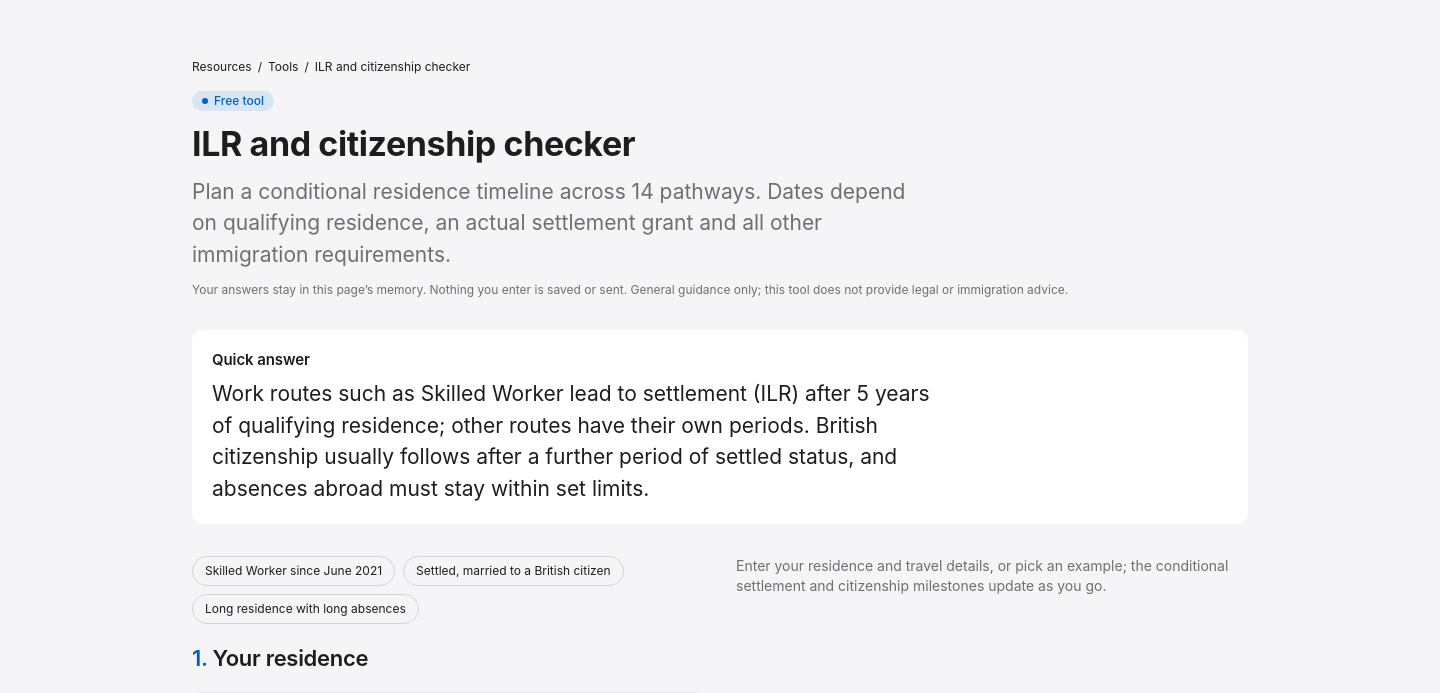
public ILR and citizenship checker › shows the frame, fills presets and flags incomplete answers
Expected: the heading "Quick answer" is shown, [212,350,310,369]
Click the button "Skilled Worker since June 2021" at (294,571), box [192,556,395,586]
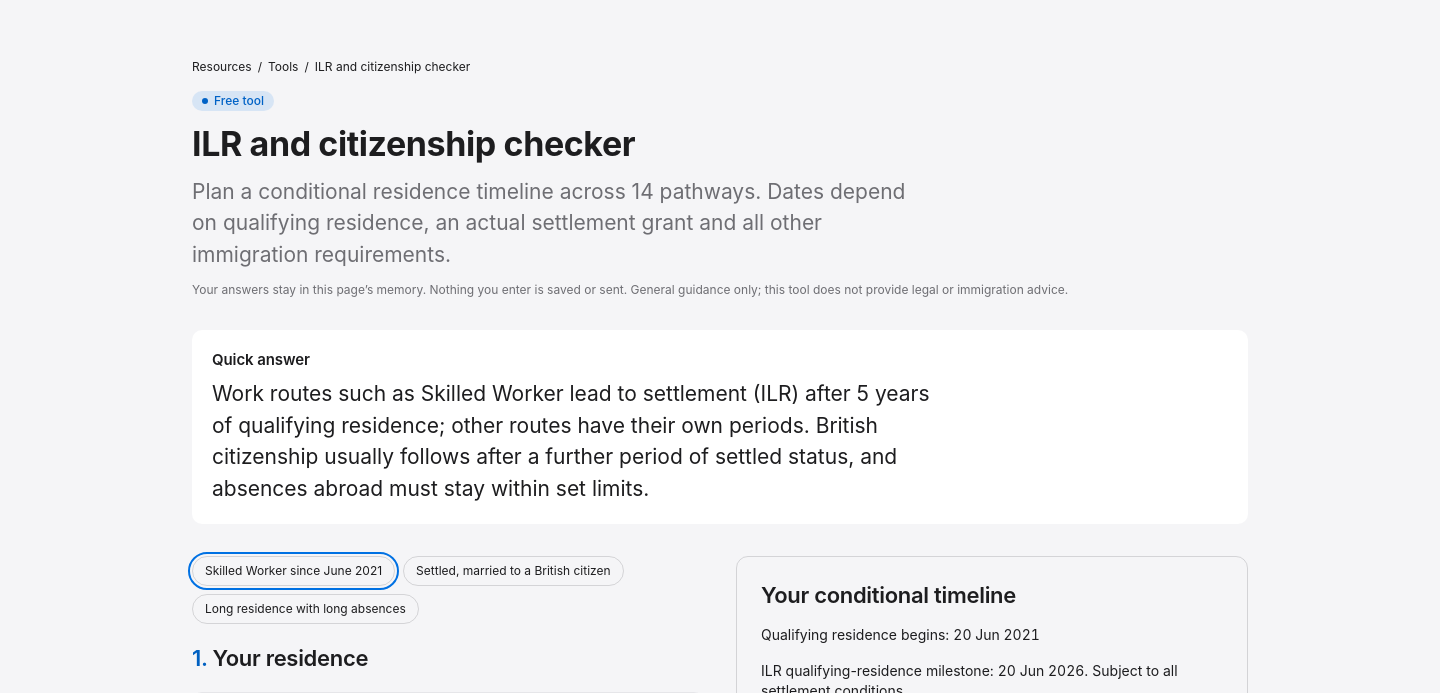
Click the button "Long residence with long absences" at (305,609), box [192,594,419,624]
(page scrolled)
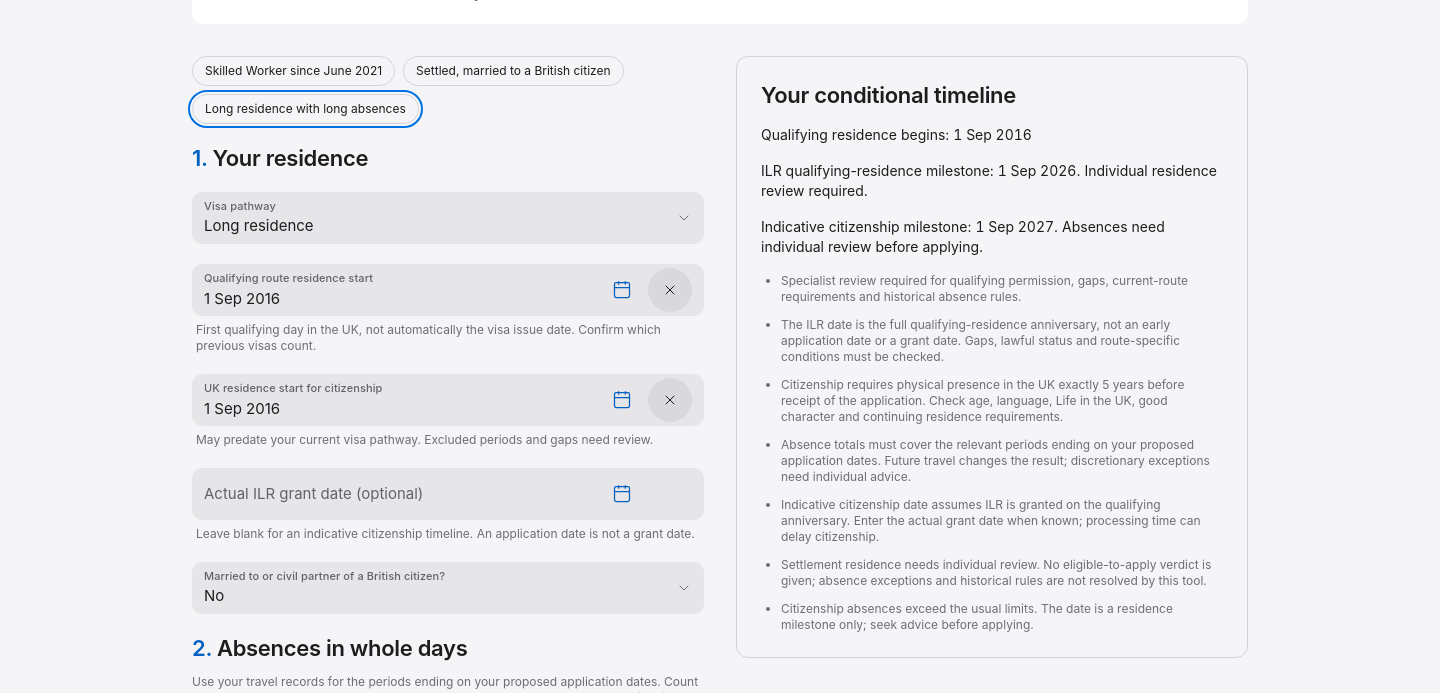
Expected: the element named "Settlement timeline result" shows "Absences need individual review", [761,218,1165,255]
Clear the field labelled "UK residence start for citizenship" at (398,400), box [204,374,592,426]
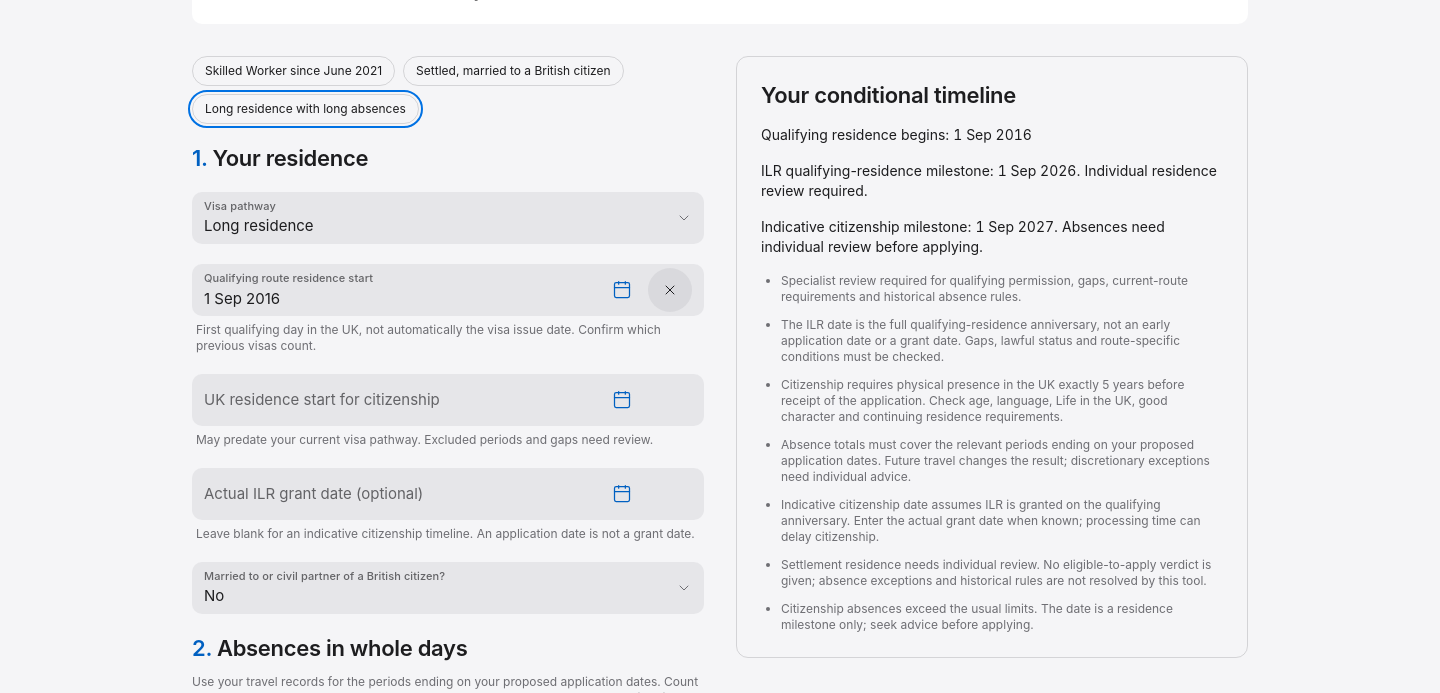
Leave the field labelled "UK residence start for citizenship", box [204,374,592,426]
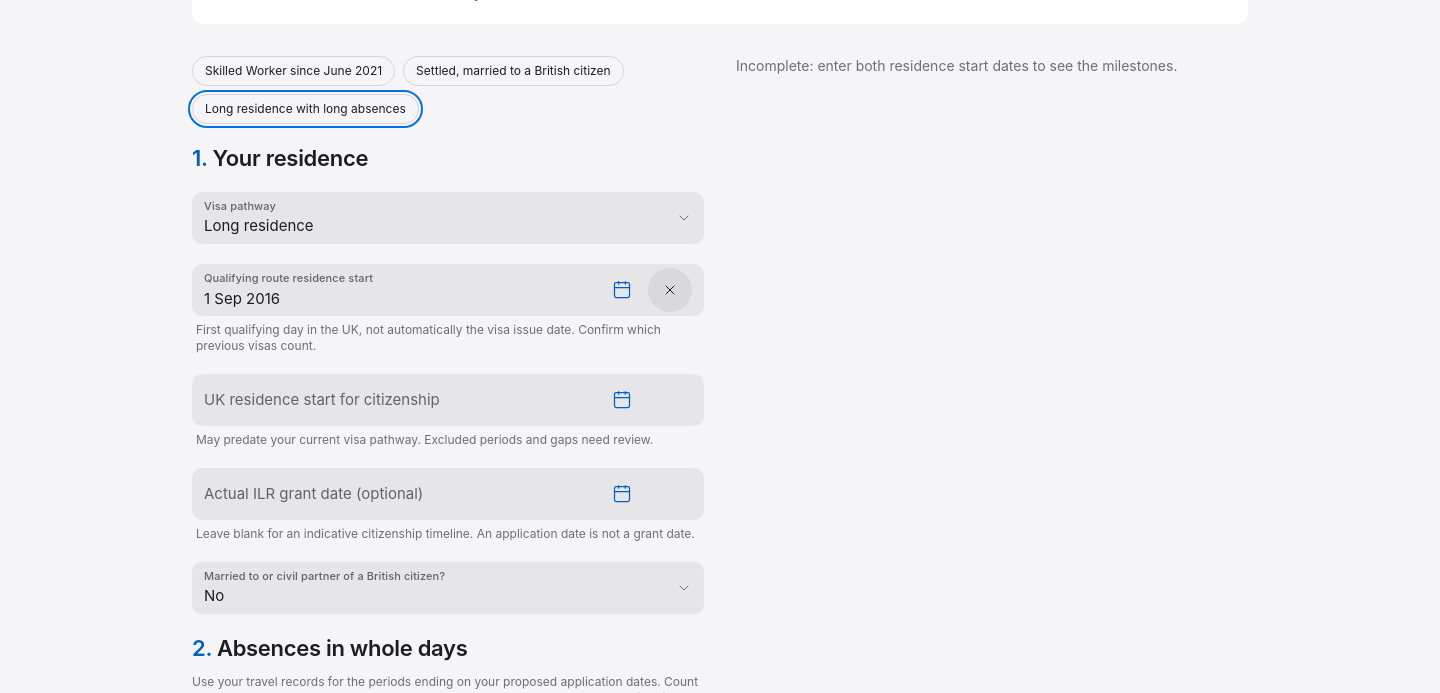
Expected: the text "Incomplete: enter both residence start dates" is shown, [736,57,1177,74]
